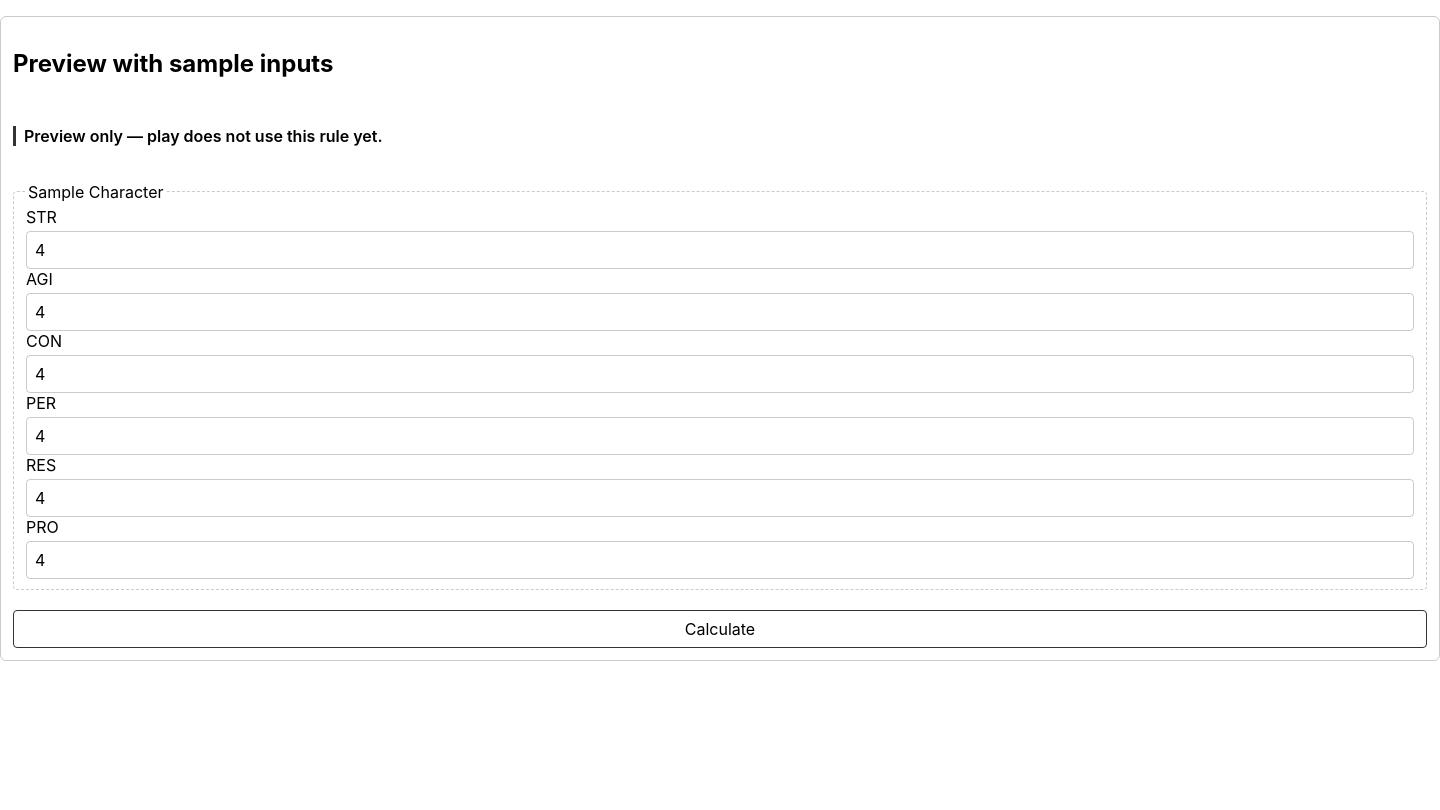
Test case: RULES-WO1 Phase C — reference previews and Keywords › previews Armor from the server and says play does not use it
Expected: the text with test id "reference-not-in-play" reads "Preview only — play does not use this rule yet.", x1=24 y1=126 x2=382 y2=146
Click the button with test id "reference-preview-run".
click(720, 629)  # box x1=13 y1=610 x2=1427 y2=648
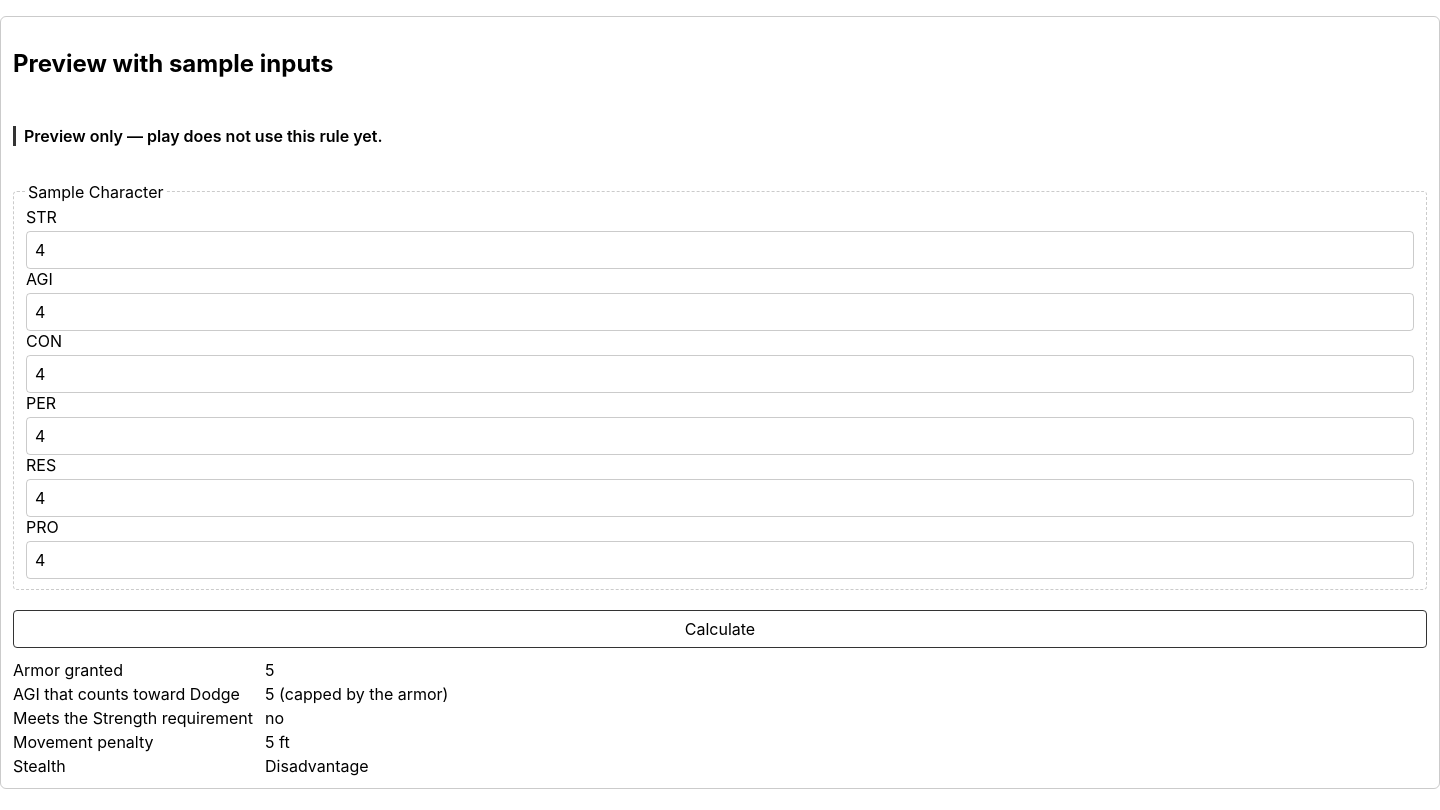
Now the text with test id "preview-armor-agi" reads "5 (capped by the armor)", box x1=265 y1=684 x2=448 y2=704
Now the text with test id "preview-armor-str" reads "no", box x1=265 y1=708 x2=284 y2=728
